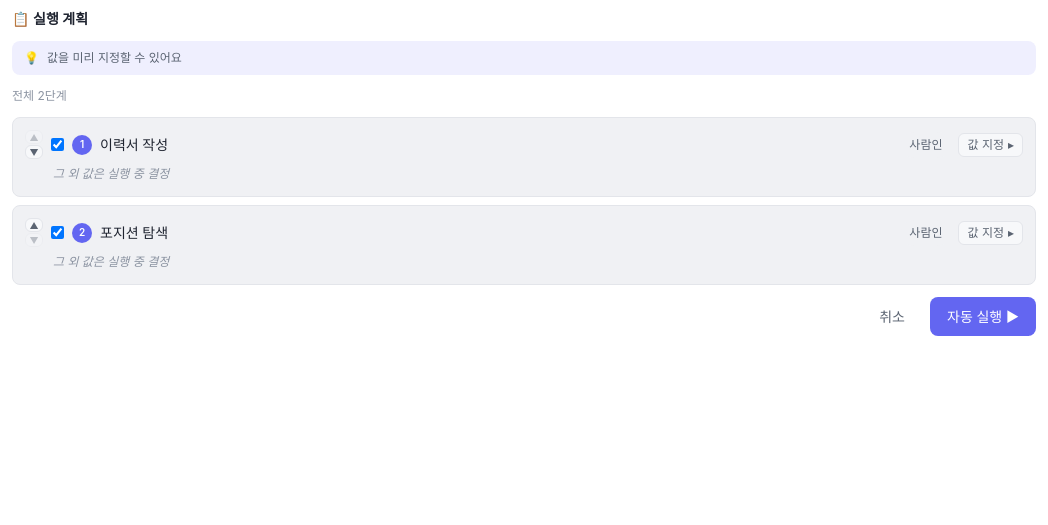
Test: PlanCard 값 사전 편집 › [값 지정] 토글로 변수 입력 폼이 노출된다
The image size is (1048, 525).
Expected: the field labelled "이름 *" is not shown
Step 1. Click the button with aria-label "이력서 작성 값 지정" → coordinates (991, 144), box [958,132,1023,156]
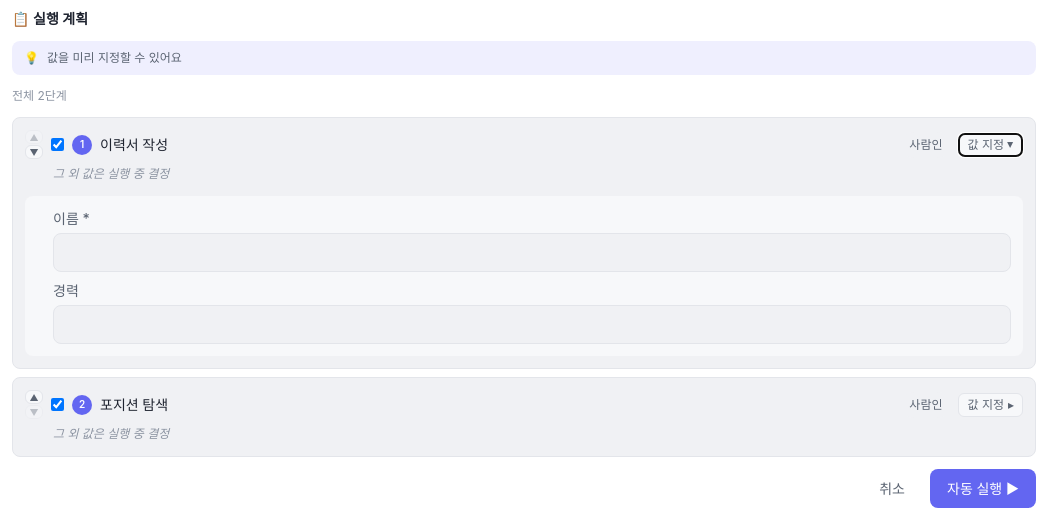
Result: the button with aria-label "이력서 작성 값 지정" is expanded at [958,132,1023,156]
